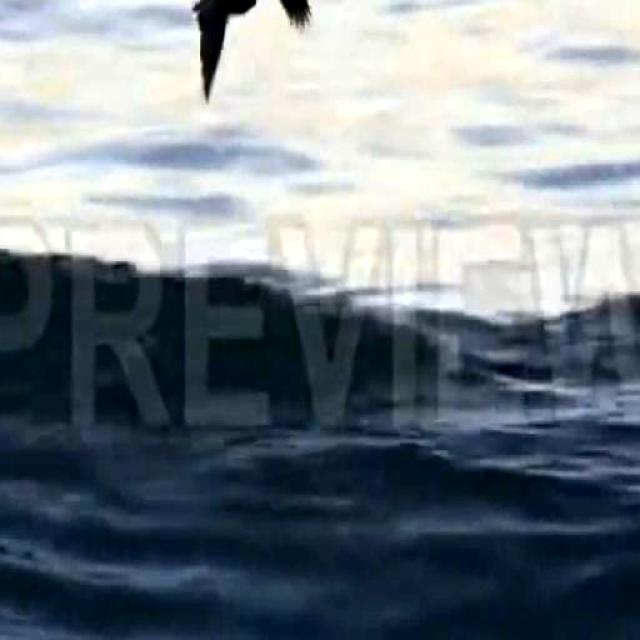airplane: (186, 0, 314, 92)
